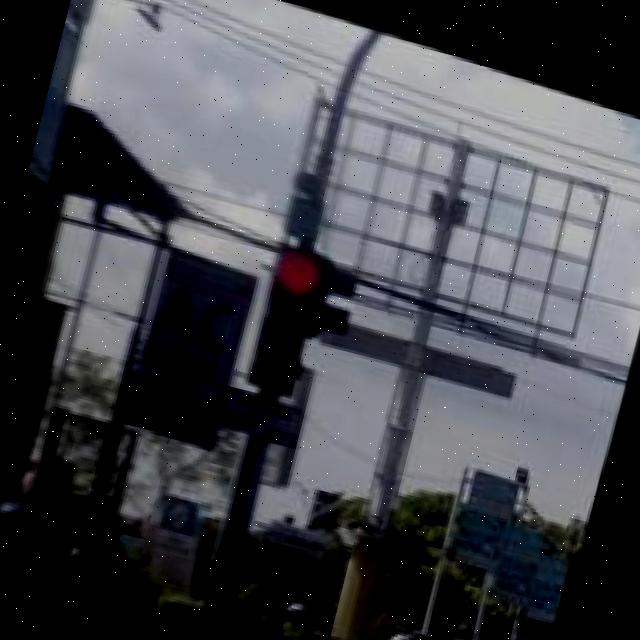red_light: (240, 233, 336, 394)
